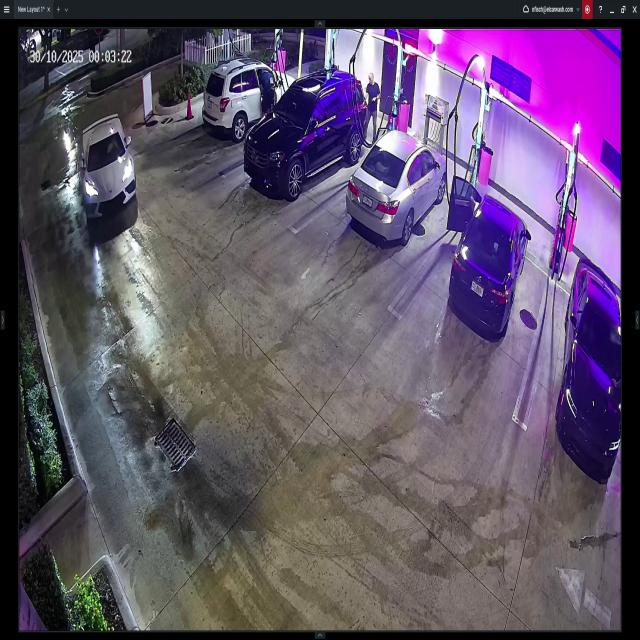Car: (246, 72, 368, 199), (556, 257, 621, 477), (449, 173, 531, 332), (348, 130, 448, 242), (200, 58, 296, 140), (82, 114, 137, 220)
